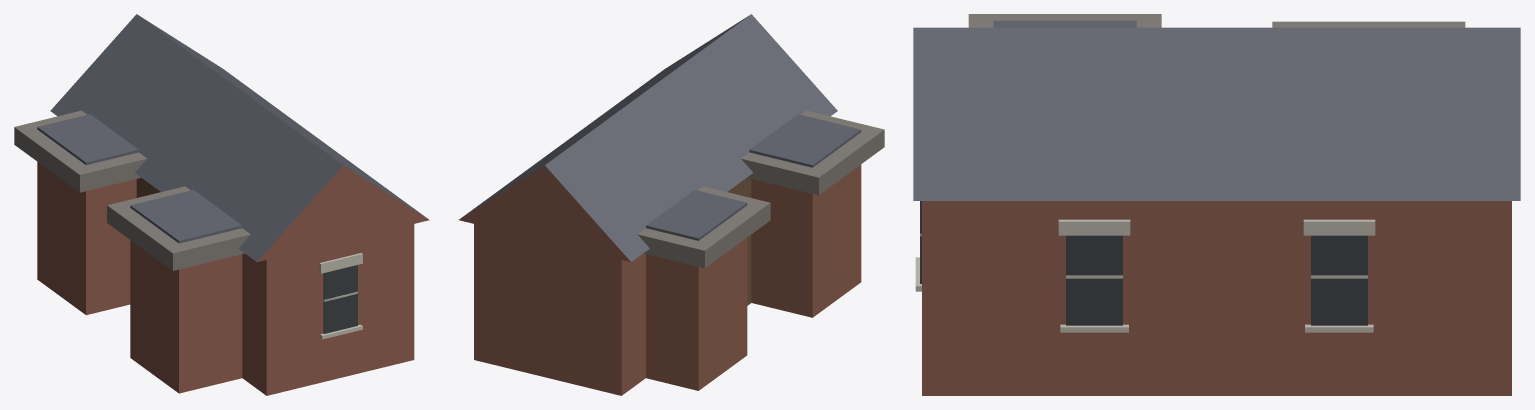
The model's file is house_2140_calumet_shed__draft_1904.glb.
3 views of the same model, side by side, from view 1: azimuth 30°, elevation 25°; view 2: azimuth 150°, elevation 25°; view 3: azimuth 270°, elevation 25° (orthographic). The views are drawn at different scales.
Visible parts, largest first — view 1: house_2140_calumet_shed__draft_1904; view 2: house_2140_calumet_shed__draft_1904; view 3: house_2140_calumet_shed__draft_1904.
Part boxes in pixels (bbox=[...]): house_2140_calumet_shed__draft_1904: bbox=[14, 14, 429, 395]; house_2140_calumet_shed__draft_1904: bbox=[459, 14, 884, 395]; house_2140_calumet_shed__draft_1904: bbox=[913, 14, 1520, 395].
Size of the model in its own units: 5.65 by 4.87 by 8.49.
